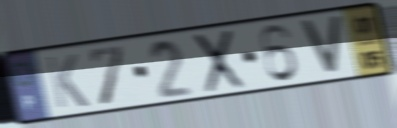2: (147, 37, 197, 101)
6: (258, 22, 301, 84)
7: (87, 43, 128, 109)
K: (43, 52, 92, 111)
V: (297, 14, 345, 77)
X: (192, 26, 248, 96)
